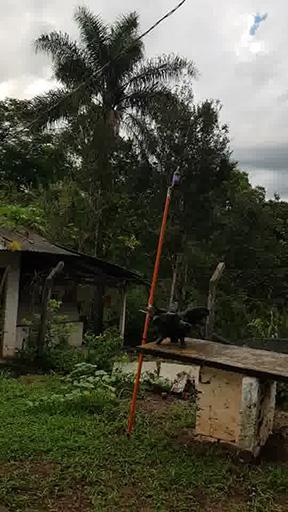Vara_Manobra: (126, 189, 172, 434)
